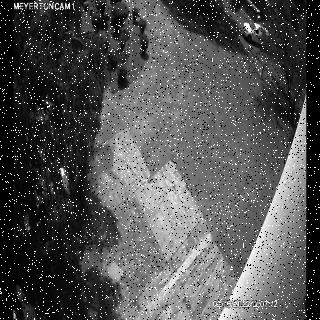car: (20, 167, 71, 238), (242, 22, 269, 46)
